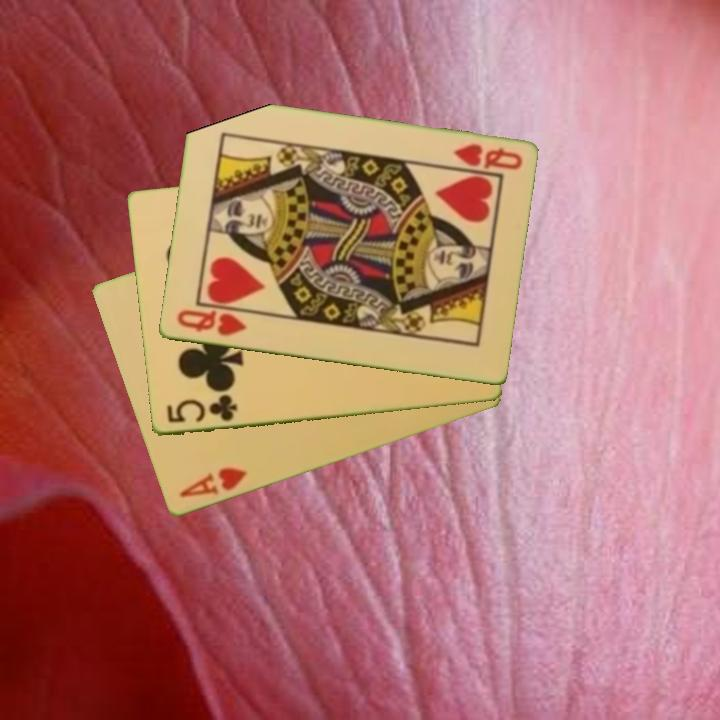5c: (162, 391, 240, 427)
Ah: (175, 464, 250, 501)
Qh: (173, 306, 249, 340), (449, 140, 525, 173)
